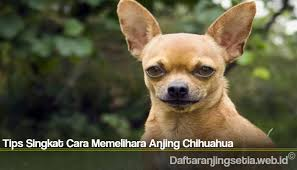Bulldog: (109, 1, 284, 139)
